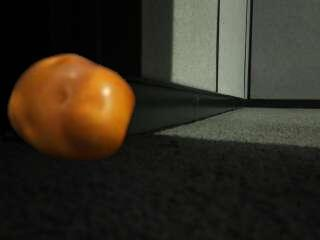Potato: (8, 50, 139, 162)
